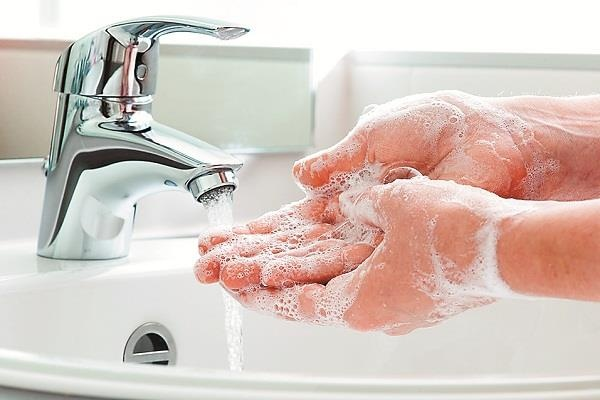washing hand: (48, 6, 533, 371)
